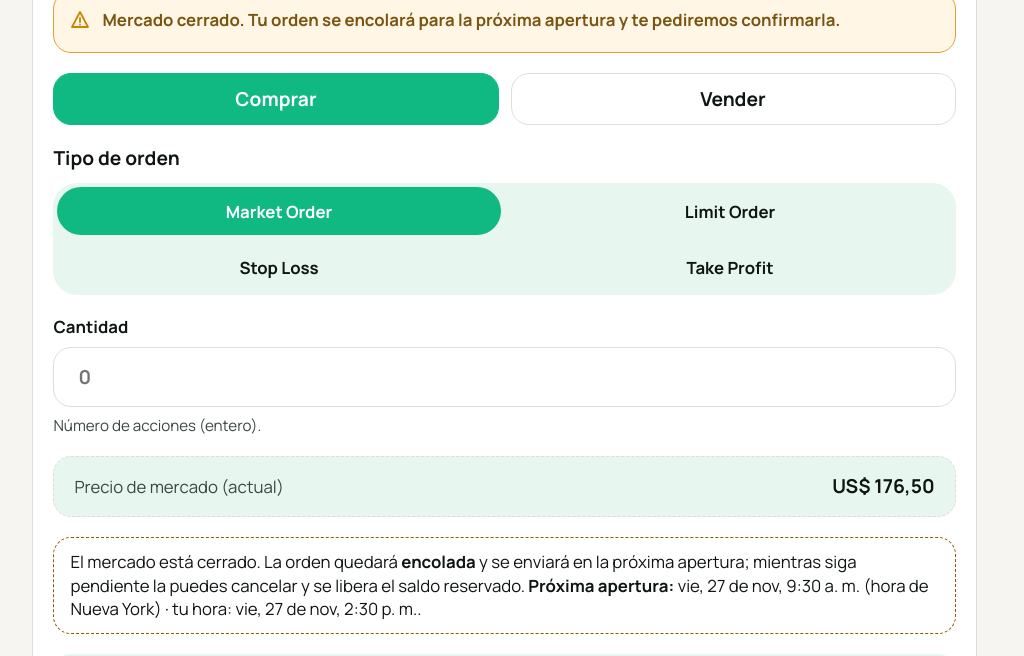
Test: pantalla Operar (SCRUM-61) › mercado cerrado: pide confirmar el encolamiento y deja la orden PENDIENTE
(page scrolled)
In the field labelled "Cantidad": (505, 377) [70,348,939,406], type "1"
(page scrolled)
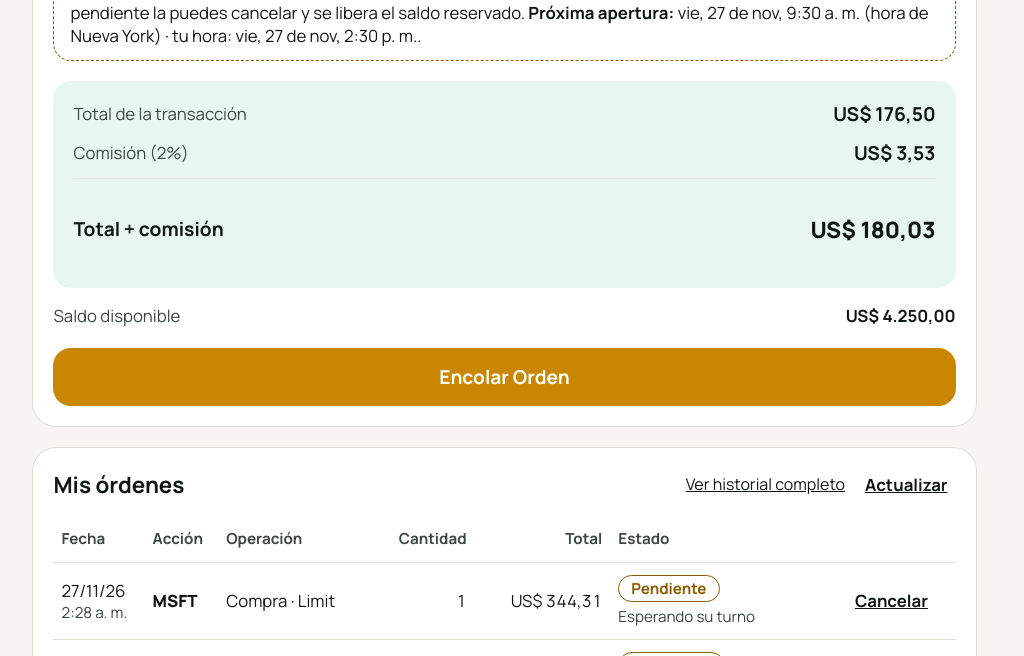
Click the button "Encolar Orden": (505, 376) [54,348,956,406]
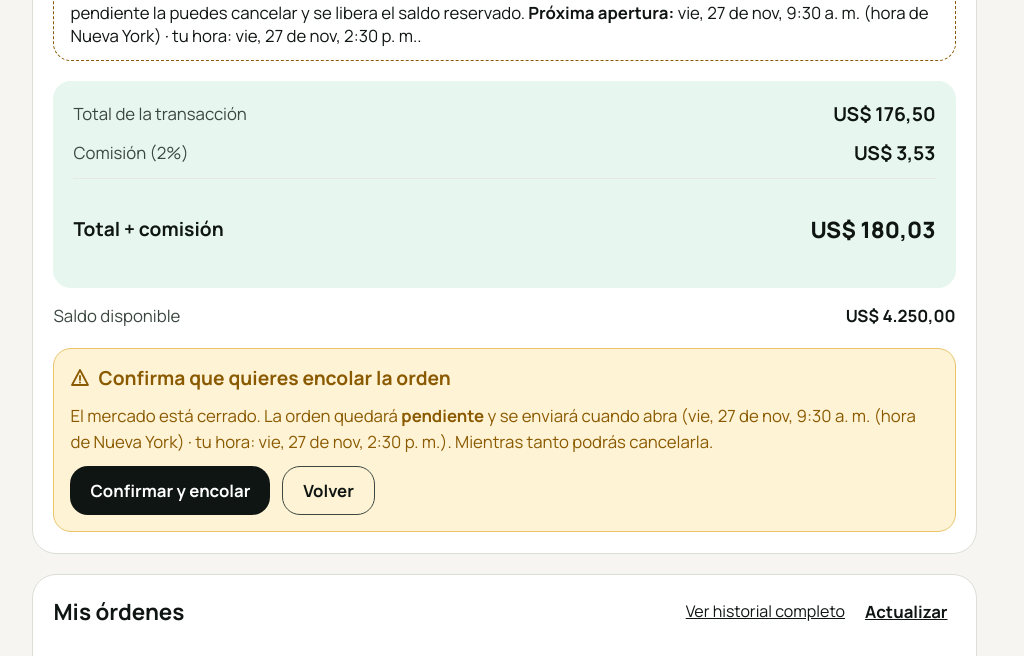
Expected: the dialog named "confirmar encolamiento" is shown, [54,348,956,532]
Click the button "Confirmar y encolar": (170, 491) [70,466,270,515]
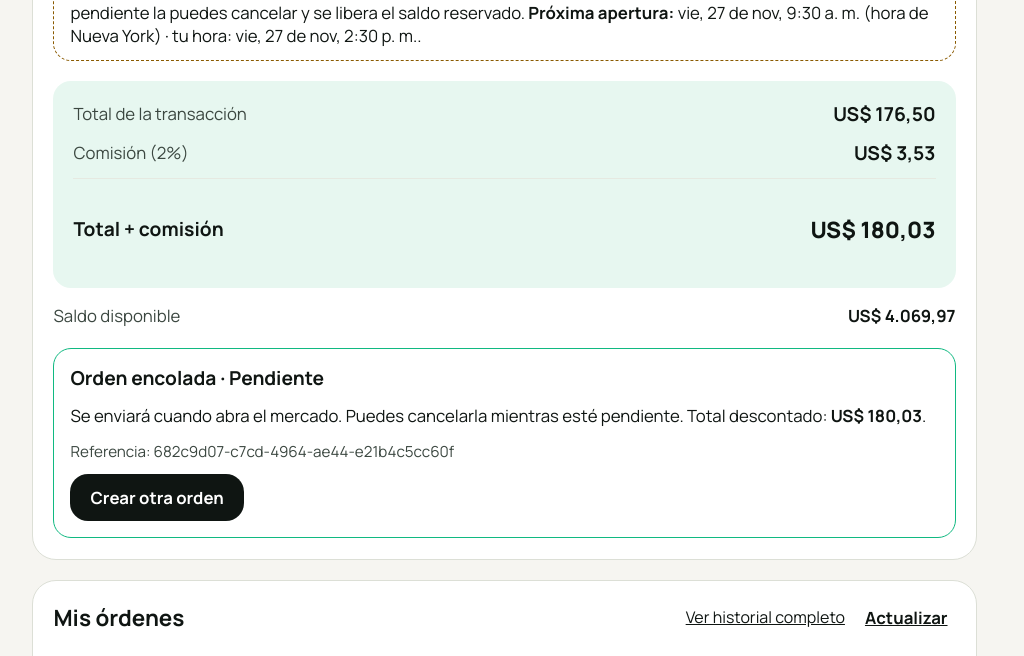
Expected: the text "Orden encolada · Pendiente" is shown, [70,364,324,390]
